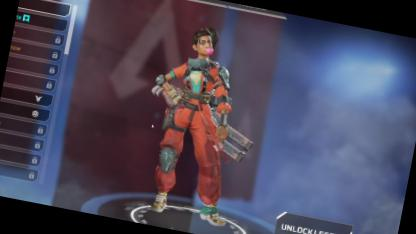Target: (152, 18, 240, 181)
